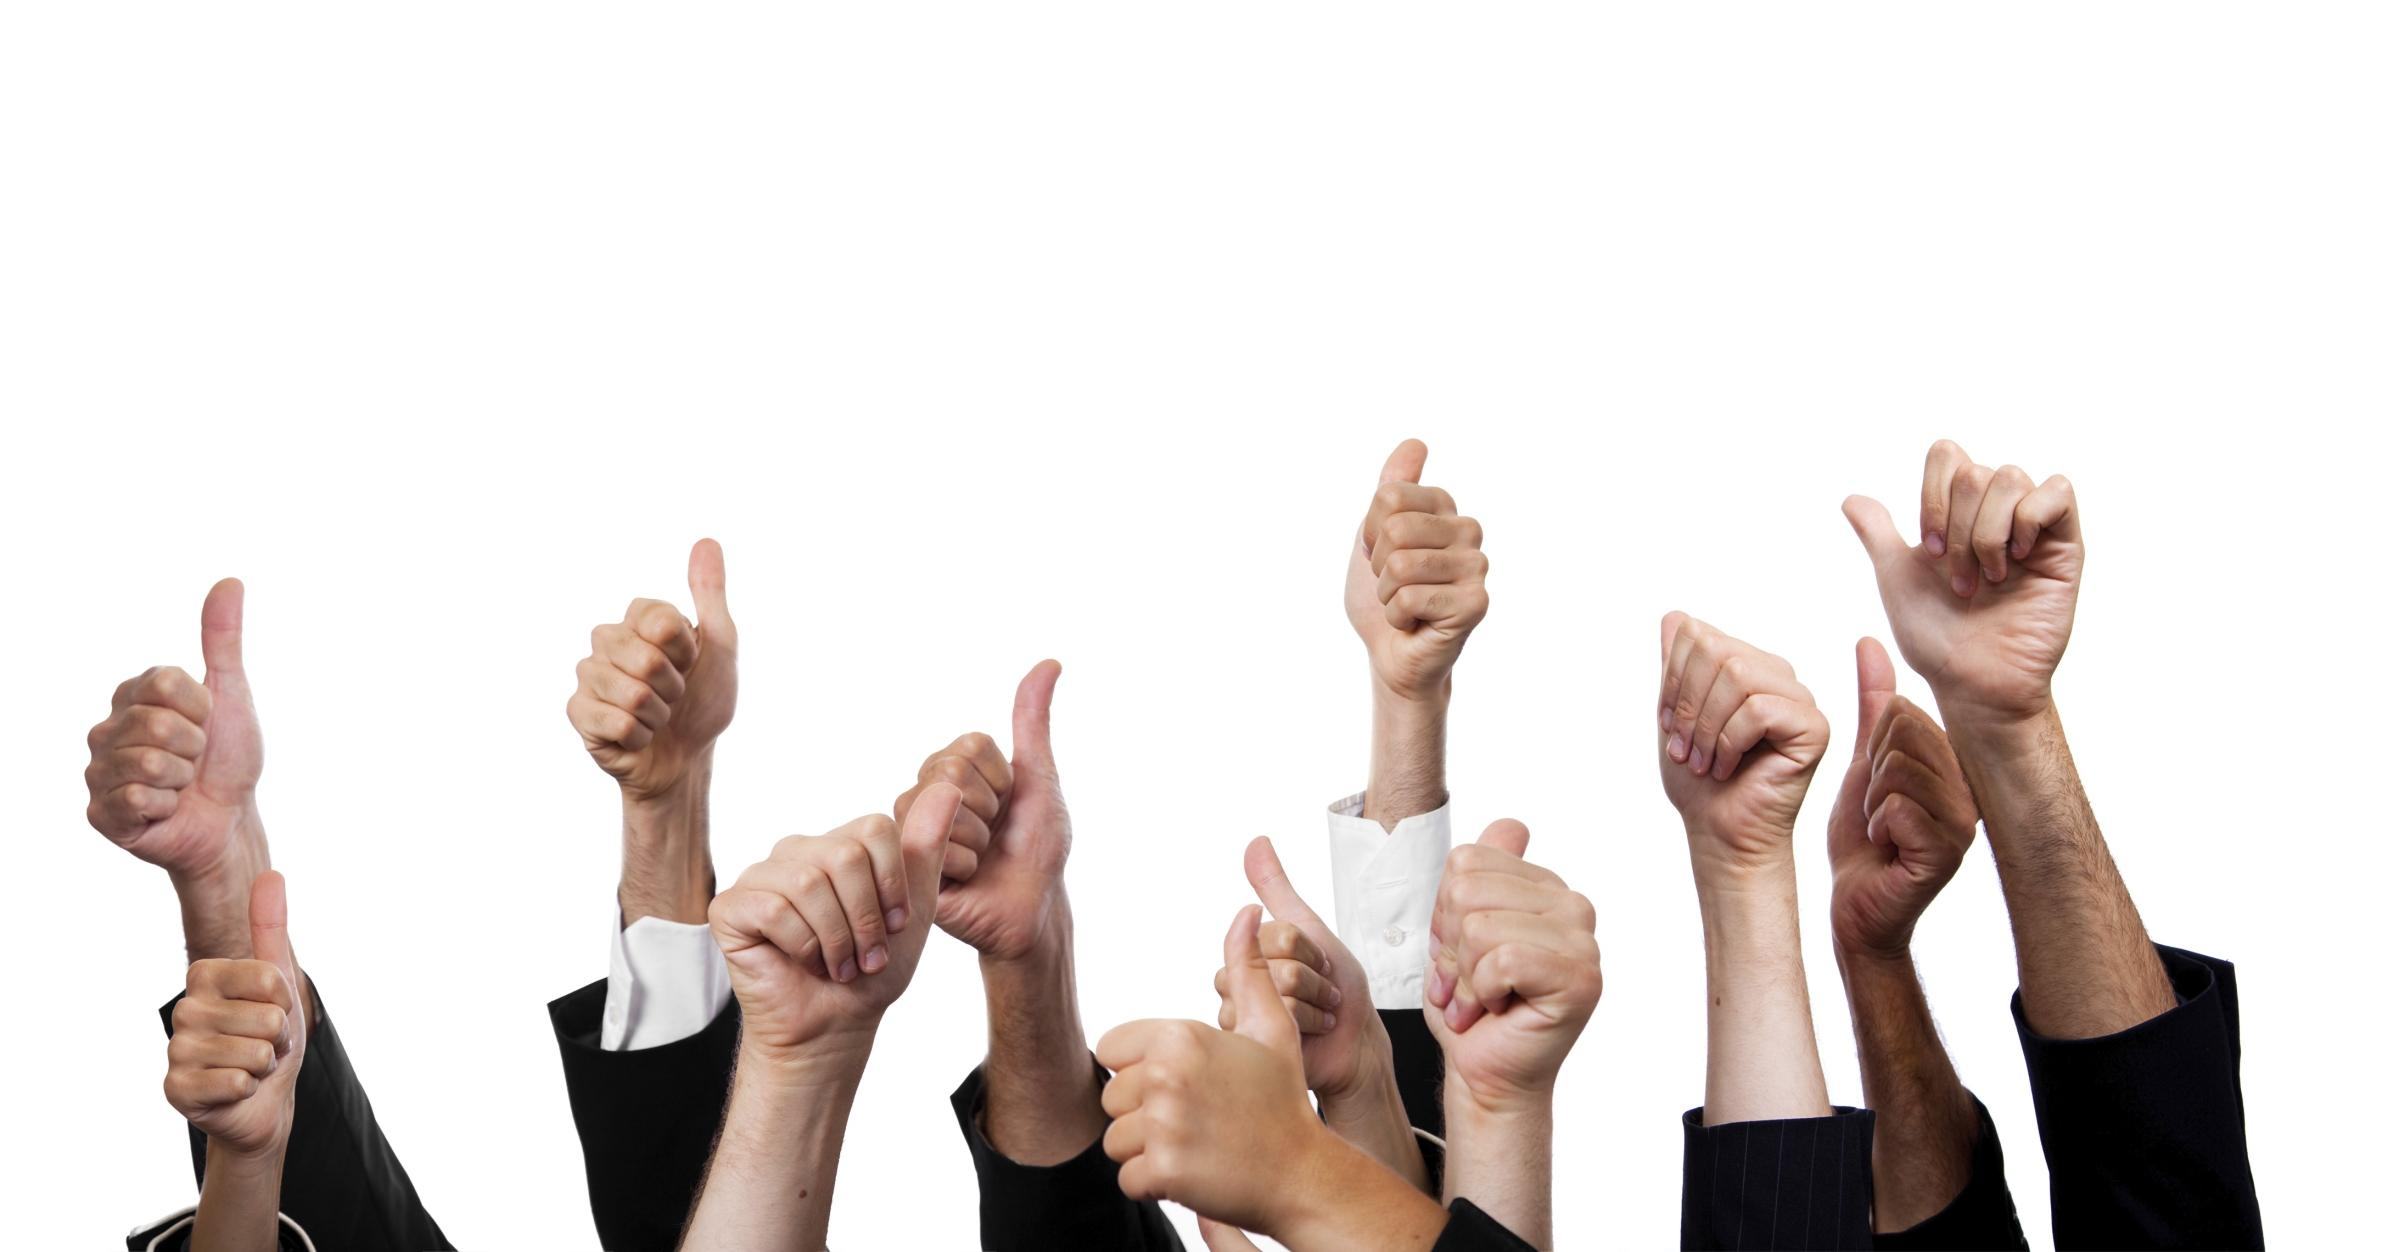thumbsup: (1095, 903, 1277, 1204), (708, 782, 965, 989), (86, 573, 248, 835), (890, 654, 1065, 887), (565, 536, 731, 757), (163, 866, 298, 1112), (1855, 635, 1964, 879), (1360, 436, 1491, 636)
